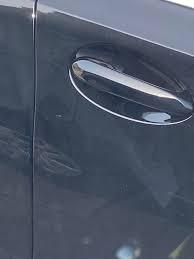doorouter-dent: (0, 0, 193, 250)
